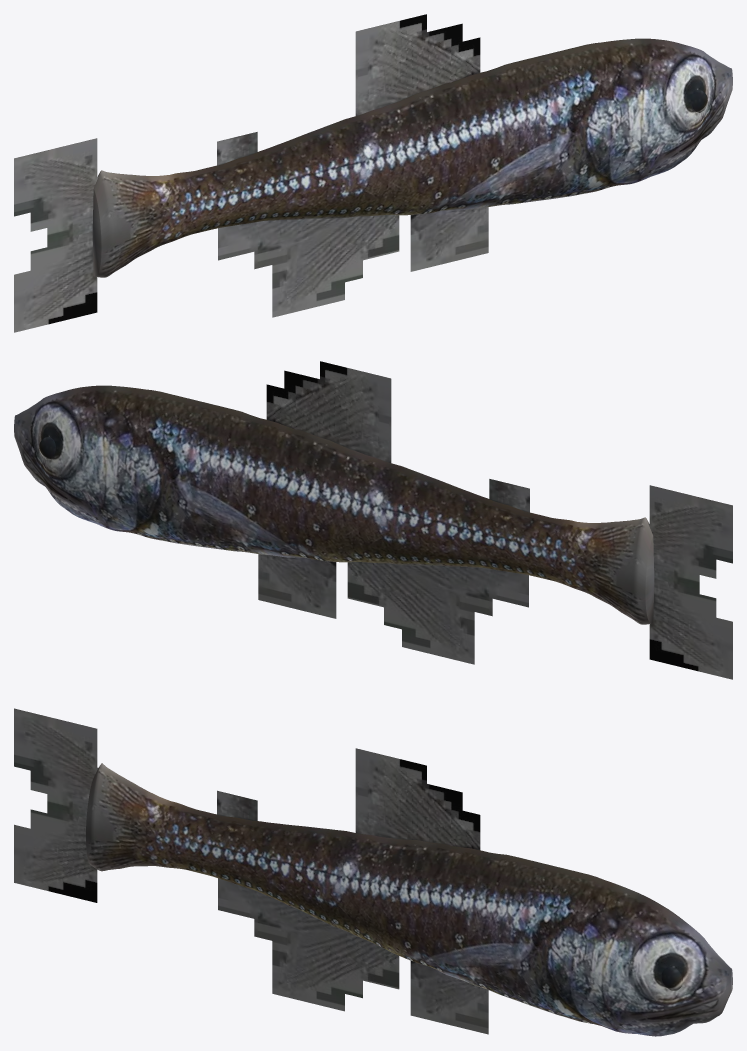
The model's file is real-myctophum_punctatum.glb.
The picture shows the model from 3 angles, top to bottom: view 1: azimuth 30°, elevation 25°; view 2: azimuth 150°, elevation 25°; view 3: azimuth 330°, elevation 25°; orthographic projection.
Parts seen in each view (by area): view 1: myctophum_punctatum; view 2: myctophum_punctatum; view 3: myctophum_punctatum.
Part boxes in pixels (x1,y1,x2,y2): myctophum_punctatum: [14, 14, 732, 332]; myctophum_punctatum: [14, 361, 732, 679]; myctophum_punctatum: [14, 708, 732, 1036].
Bounding box in the file's own units: 0.1104 × 0.039 × 0.0106.
Materials: 1 (1 with a texture image).
